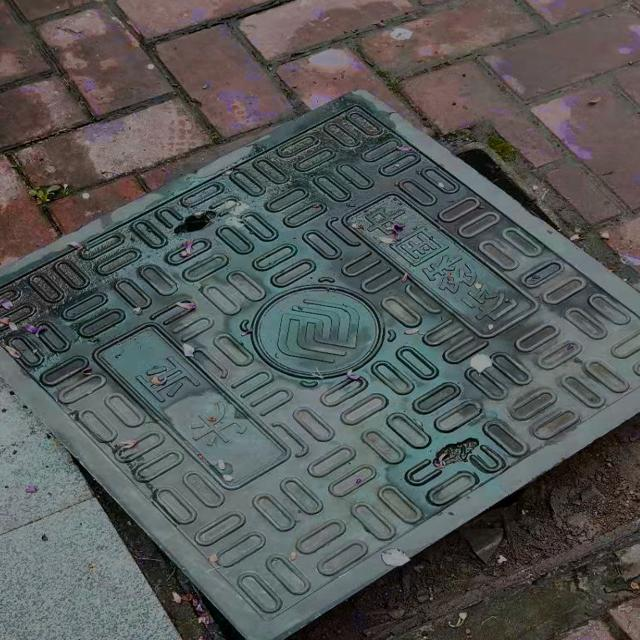uncovered: (0, 87, 640, 640)
